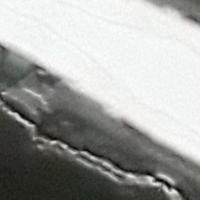crack: (0, 58, 185, 199)
